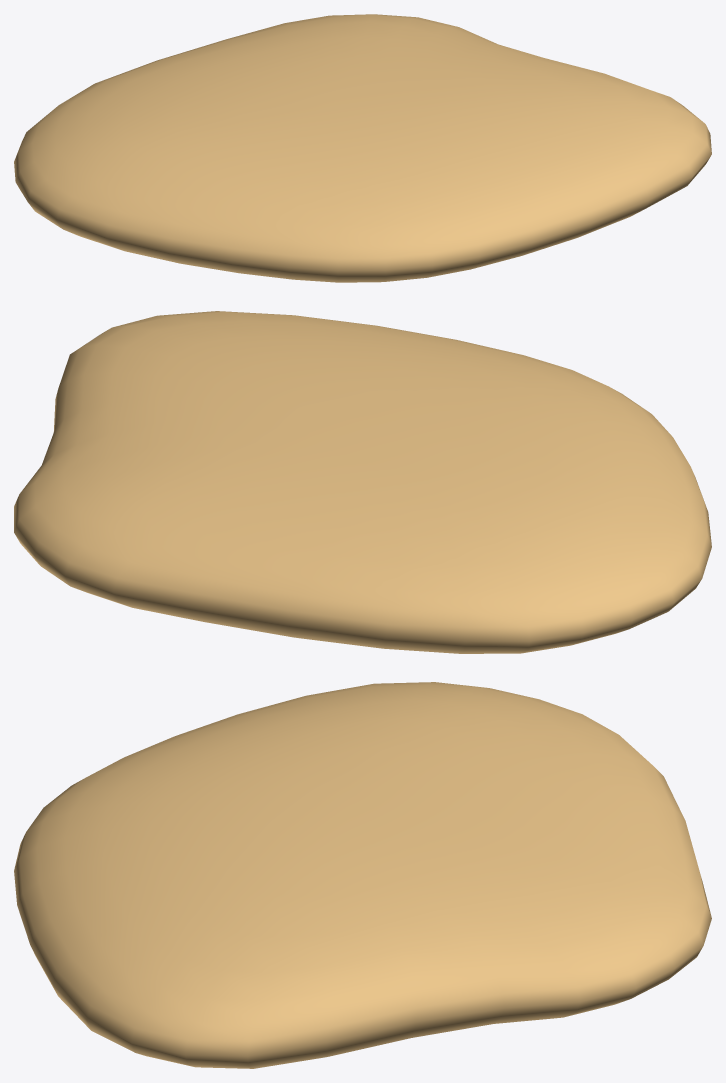
The model's file is island2.gltf.
3 views of the same model, one above another, from view 1: azimuth 30°, elevation 25°; view 2: azimuth 150°, elevation 25°; view 3: azimuth 270°, elevation 25° (orthographic). The views are drawn at different scales.
Parts seen in each view (by area): view 1: Island; view 2: Island; view 3: Island.
Boxes of the visible parts, <box> form: Island: <box>14,14,711,282</box>; Island: <box>14,311,711,653</box>; Island: <box>14,682,711,1068</box>.
Bounding box in the file's own units: 6.03 × 1.03 × 4.95.
